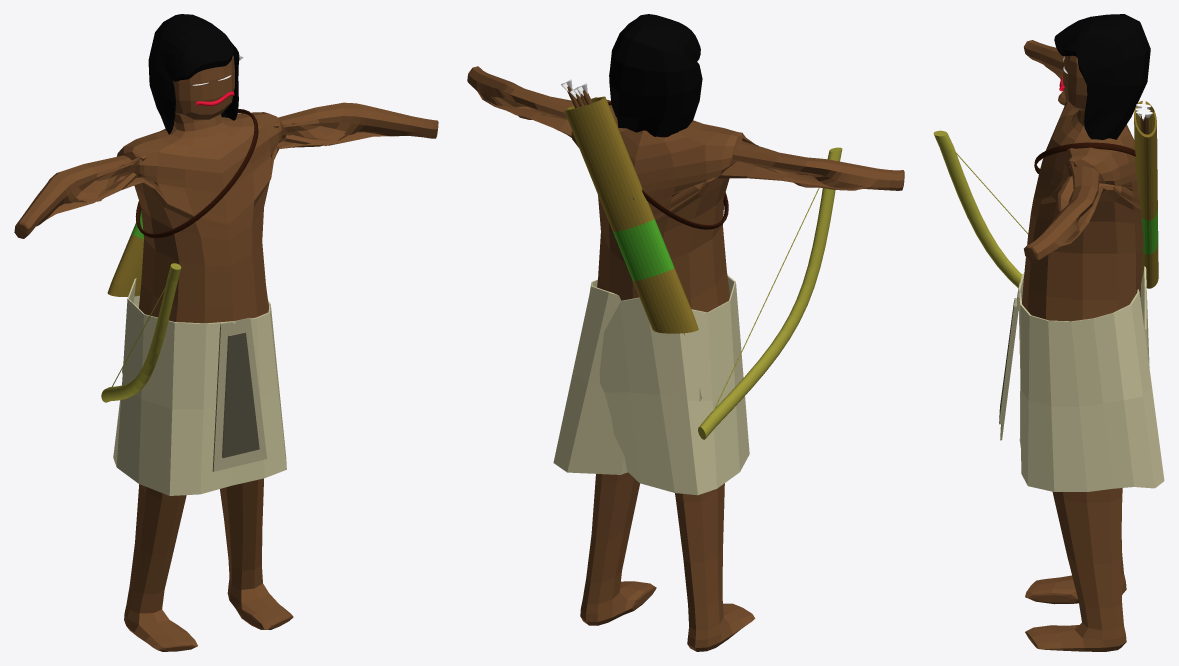
The model's file is luk_tower_starověk.fbx.
3 renders of one model, left to right at view 1: azimuth 30°, elevation 25°; view 2: azimuth 150°, elevation 25°; view 3: azimuth 270°, elevation 25°, orthographic. The views are drawn at different scales.
Parts seen in each view (by area): view 1: Cube, Plane, Plane.001, Plane.002, Cylinder.002, Cylinder, BezierCircle; view 2: Cube, Plane, Cylinder, Plane.002, Cylinder.002, BezierCircle; view 3: Cube, Plane, Plane.002, Cylinder, Cylinder.002, Plane.001, BezierCircle.
Part boxes in pixels (<box>): Cube: <box>14,55,438,651</box>; Plane: <box>113,278,286,495</box>; Plane.001: <box>212,317,266,471</box>; Plane.002: <box>148,14,239,134</box>; Cylinder.002: <box>101,263,181,402</box>; Cylinder: <box>107,210,143,296</box>; BezierCircle: <box>135,109,258,238</box>; Cube: <box>467,66,904,651</box>; Plane: <box>553,275,749,495</box>; Cylinder: <box>564,96,698,334</box>; Plane.002: <box>609,14,702,137</box>; Cylinder.002: <box>698,147,842,439</box>; BezierCircle: <box>608,101,728,229</box>; Cube: <box>1022,40,1143,651</box>; Plane: <box>1018,266,1164,491</box>; Plane.002: <box>1054,14,1150,139</box>; Cylinder: <box>1134,101,1158,288</box>; Cylinder.002: <box>933,130,1028,287</box>; Plane.001: <box>999,283,1020,440</box>; BezierCircle: <box>1034,142,1135,173</box>.
Bounding box in the file's own units: 254 × 343 × 118.
